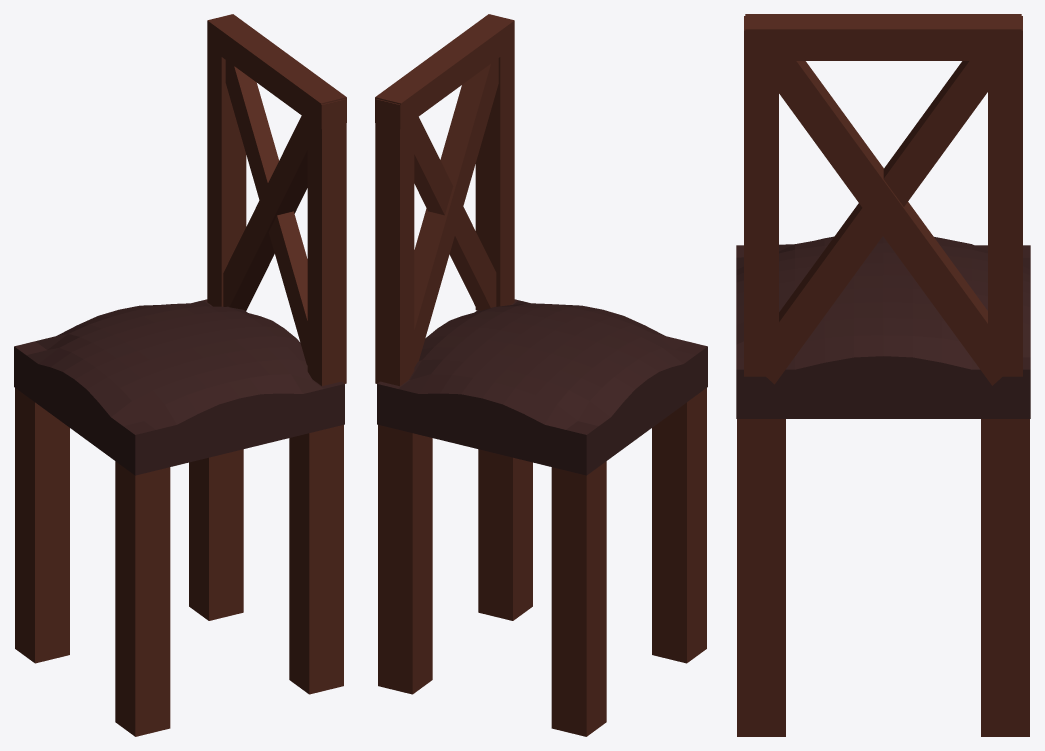
File: chair.glb
3 views of the same model, side by side, from view 1: azimuth 30°, elevation 25°; view 2: azimuth 150°, elevation 25°; view 3: azimuth 270°, elevation 25° (orthographic). The views are drawn at different scales.
Visible parts, largest first — view 1: Cube.004, Cube.002, Cube.003, Cube, Cube.006, Cube.001, Cube.005, Cube.008, Cube.007, Cube.009; view 2: Cube.004, Cube, Cube.001, Cube.002, Cube.005, Cube.003, Cube.007, Cube.006, Cube.009, Cube.008; view 3: Cube.004, Cube.001, Cube.003, Cube.007, Cube.009, Cube.008, Cube.005, Cube.006.
Boxes of the visible parts, <box> form: Cube.004: <box>14,299,344,475</box>; Cube.002: <box>115,461,170,736</box>; Cube.003: <box>289,425,343,694</box>; Cube: <box>15,388,69,663</box>; Cube.006: <box>307,99,346,386</box>; Cube.001: <box>189,449,243,620</box>; Cube.005: <box>207,46,246,306</box>; Cube.008: <box>225,60,307,365</box>; Cube.007: <box>223,116,307,310</box>; Cube.009: <box>207,14,346,129</box>; Cube.004: <box>377,299,707,475</box>; Cube: <box>551,461,606,736</box>; Cube.001: <box>378,425,432,694</box>; Cube.002: <box>652,388,706,663</box>; Cube.005: <box>375,99,414,386</box>; Cube.003: <box>478,449,532,620</box>; Cube.007: <box>414,58,498,366</box>; Cube.006: <box>475,46,514,310</box>; Cube.009: <box>375,14,514,129</box>; Cube.008: <box>414,117,496,310</box>; Cube.004: <box>736,236,1030,418</box>; Cube.001: <box>981,419,1029,736</box>; Cube.003: <box>737,419,785,736</box>; Cube.007: <box>779,61,1002,385</box>; Cube.009: <box>745,14,1021,60</box>; Cube.008: <box>766,61,987,384</box>; Cube.005: <box>988,16,1022,376</box>; Cube.006: <box>744,16,778,376</box>.
Size of the model in its own units: 2.48 by 6.43 by 2.41.
